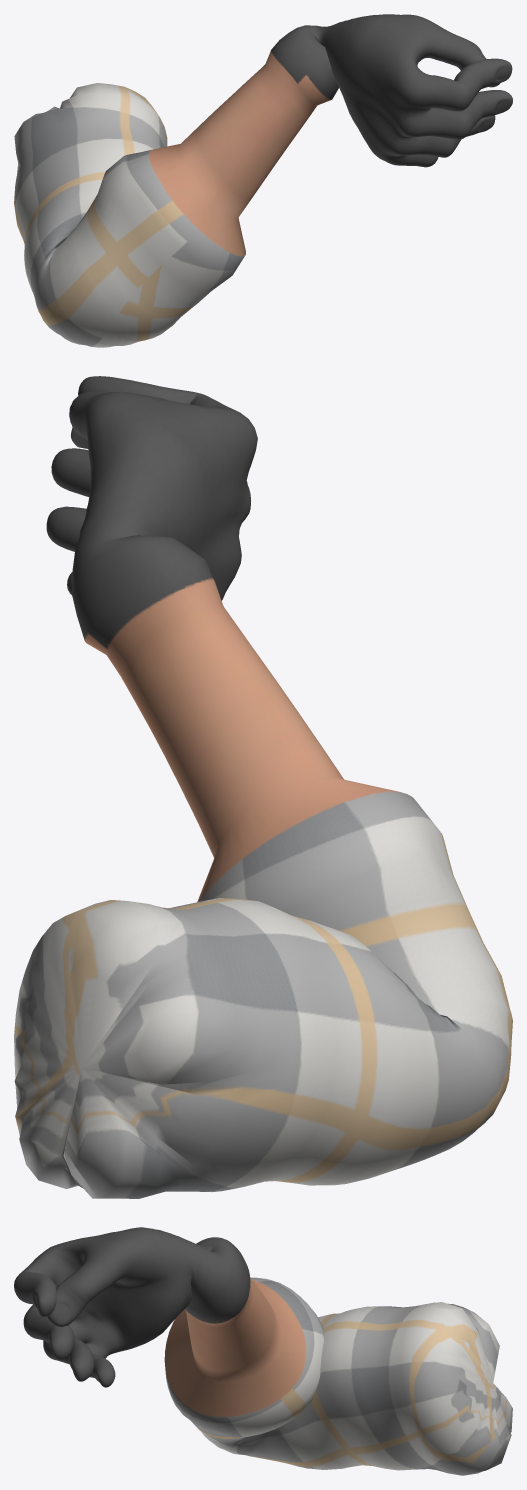
File: akinci_grenade.fbx
3 renders of one model, top to bottom at view 1: azimuth 30°, elevation 25°; view 2: azimuth 150°, elevation 25°; view 3: azimuth 270°, elevation 25°, orthographic. The views are drawn at different scales.
Visible parts, largest first — view 1: RightArm; view 2: RightArm; view 3: RightArm.
Boxes of the visible parts, x1=… form: RightArm: x1=14, y1=14, x2=512, y2=347; RightArm: x1=14, y1=376, x2=512, y2=1198; RightArm: x1=14, y1=1227, x2=512, y2=1475.
Bounding box in the file's own units: 0.3169 × 0.2696 × 0.3653.
